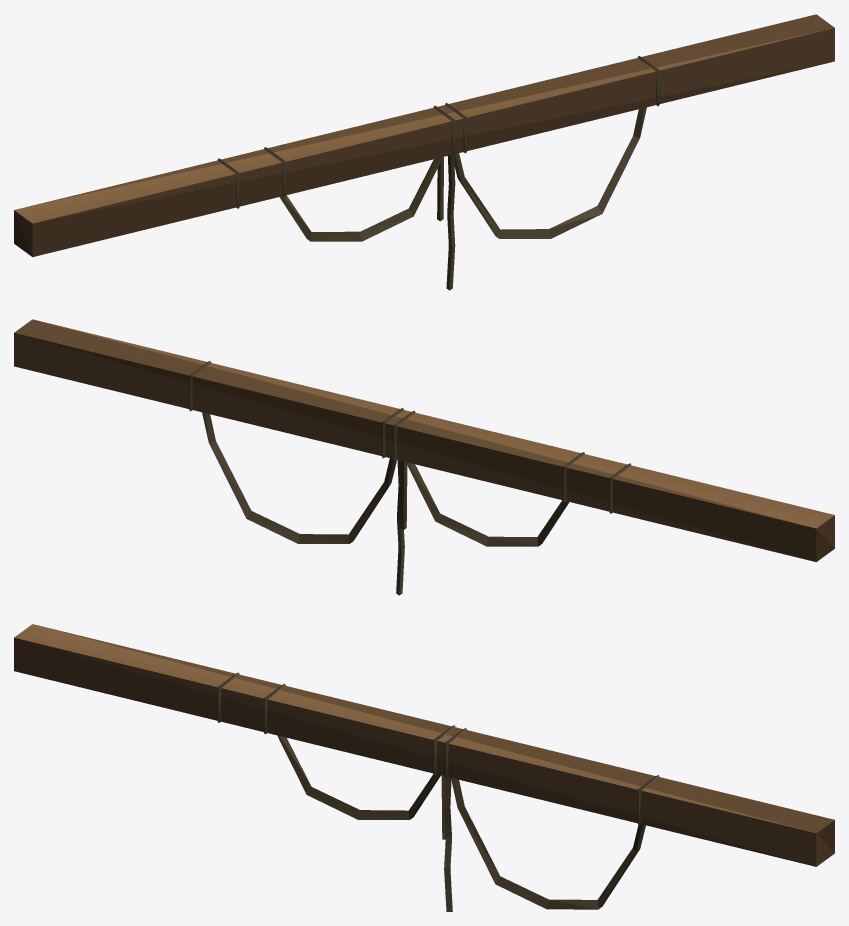
File: Wood_6_Lod0.fbx
3 renders of one model, top to bottom at view 1: azimuth 30°, elevation 25°; view 2: azimuth 150°, elevation 25°; view 3: azimuth 330°, elevation 25°, orthographic.
Visible parts, largest first — view 1: polySurface1090; view 2: polySurface1090; view 3: polySurface1090.
Boxes of the visible parts, <box> form: polySurface1090: <box>14,14,834,290</box>; polySurface1090: <box>14,319,834,595</box>; polySurface1090: <box>14,624,834,911</box>.
Size of the model in its own units: 1000 by 212 by 43.25.
Materials: 1 (1 with a texture image).
